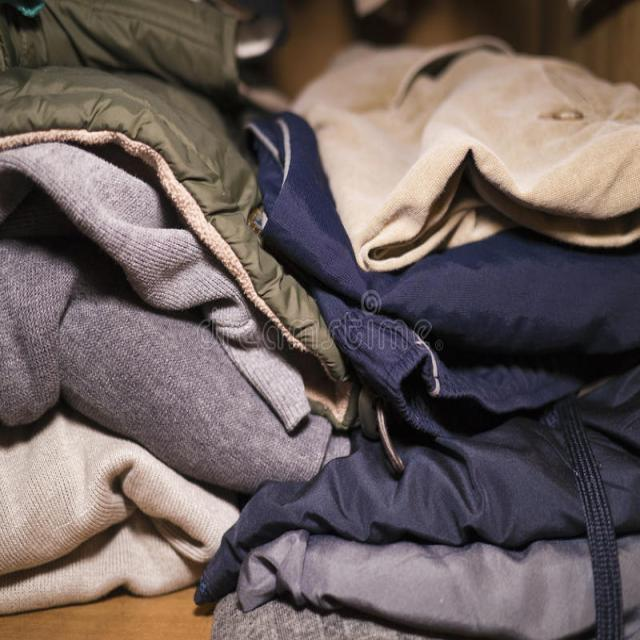clothes: (28, 66, 626, 610)
